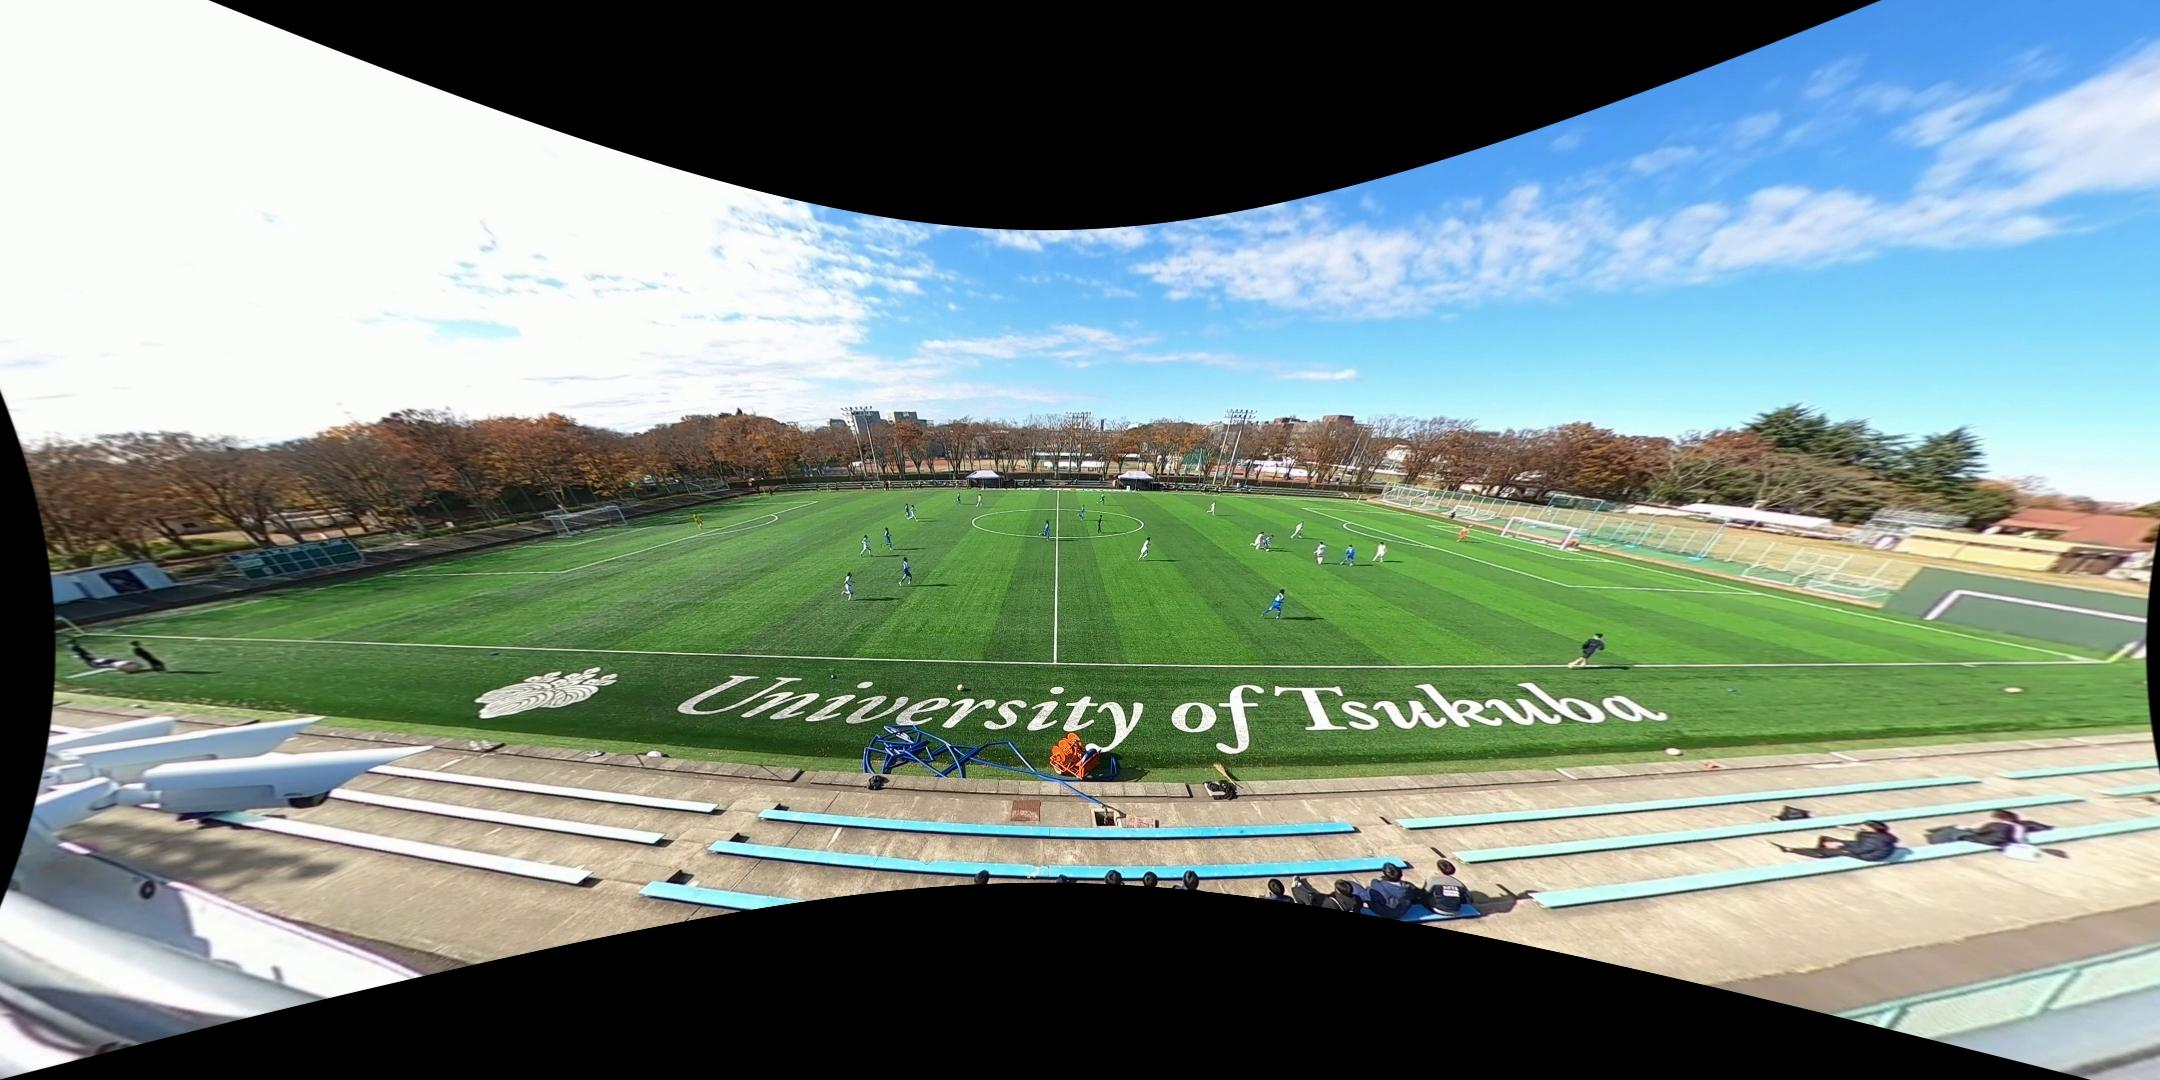person: (1568, 632, 1609, 670), (1262, 588, 1288, 620), (897, 557, 914, 586), (841, 570, 855, 602), (1338, 544, 1356, 566), (1312, 542, 1329, 565), (1137, 535, 1152, 561), (881, 526, 895, 552), (859, 534, 874, 558), (1372, 541, 1388, 562), (1249, 531, 1265, 549), (1290, 520, 1305, 539), (1039, 520, 1052, 541), (1260, 534, 1276, 551), (908, 504, 921, 524), (1457, 524, 1471, 542), (693, 510, 706, 529), (1096, 514, 1105, 534), (1207, 500, 1218, 516), (1076, 504, 1085, 521), (903, 503, 912, 520), (1096, 491, 1106, 506), (975, 494, 985, 509), (954, 492, 963, 506)
sports ball: (2001, 683, 2026, 697), (1663, 744, 1683, 758), (1415, 703, 1428, 715), (956, 682, 966, 692), (1265, 548, 1271, 553)
